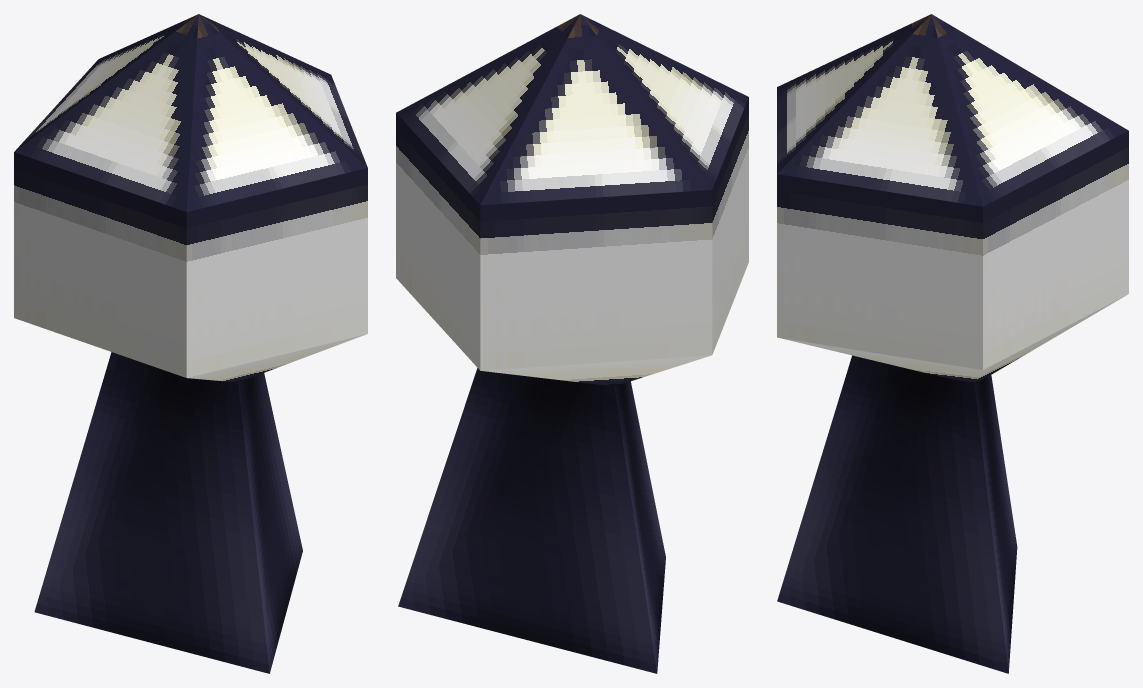
3 views of the same model, side by side, from view 1: azimuth 30°, elevation 25°; view 2: azimuth 150°, elevation 25°; view 3: azimuth 270°, elevation 25° (orthographic).
Parts seen in each view (by area): view 1: prim230-wallight; view 2: prim230-wallight; view 3: prim230-wallight.
Boxes of the visible parts, x1,y1,x2,y2 form: prim230-wallight: [14, 14, 367, 673]; prim230-wallight: [396, 14, 748, 673]; prim230-wallight: [777, 14, 1128, 673].
Size of the model in its own units: 42 by 76 by 41.
Materials: 1 (1 with a texture image).
